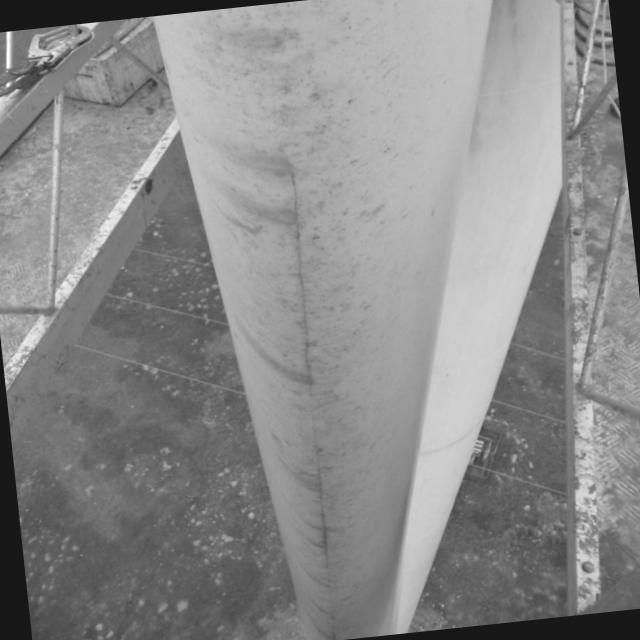crack: (284, 170, 326, 397), (306, 432, 340, 582)
